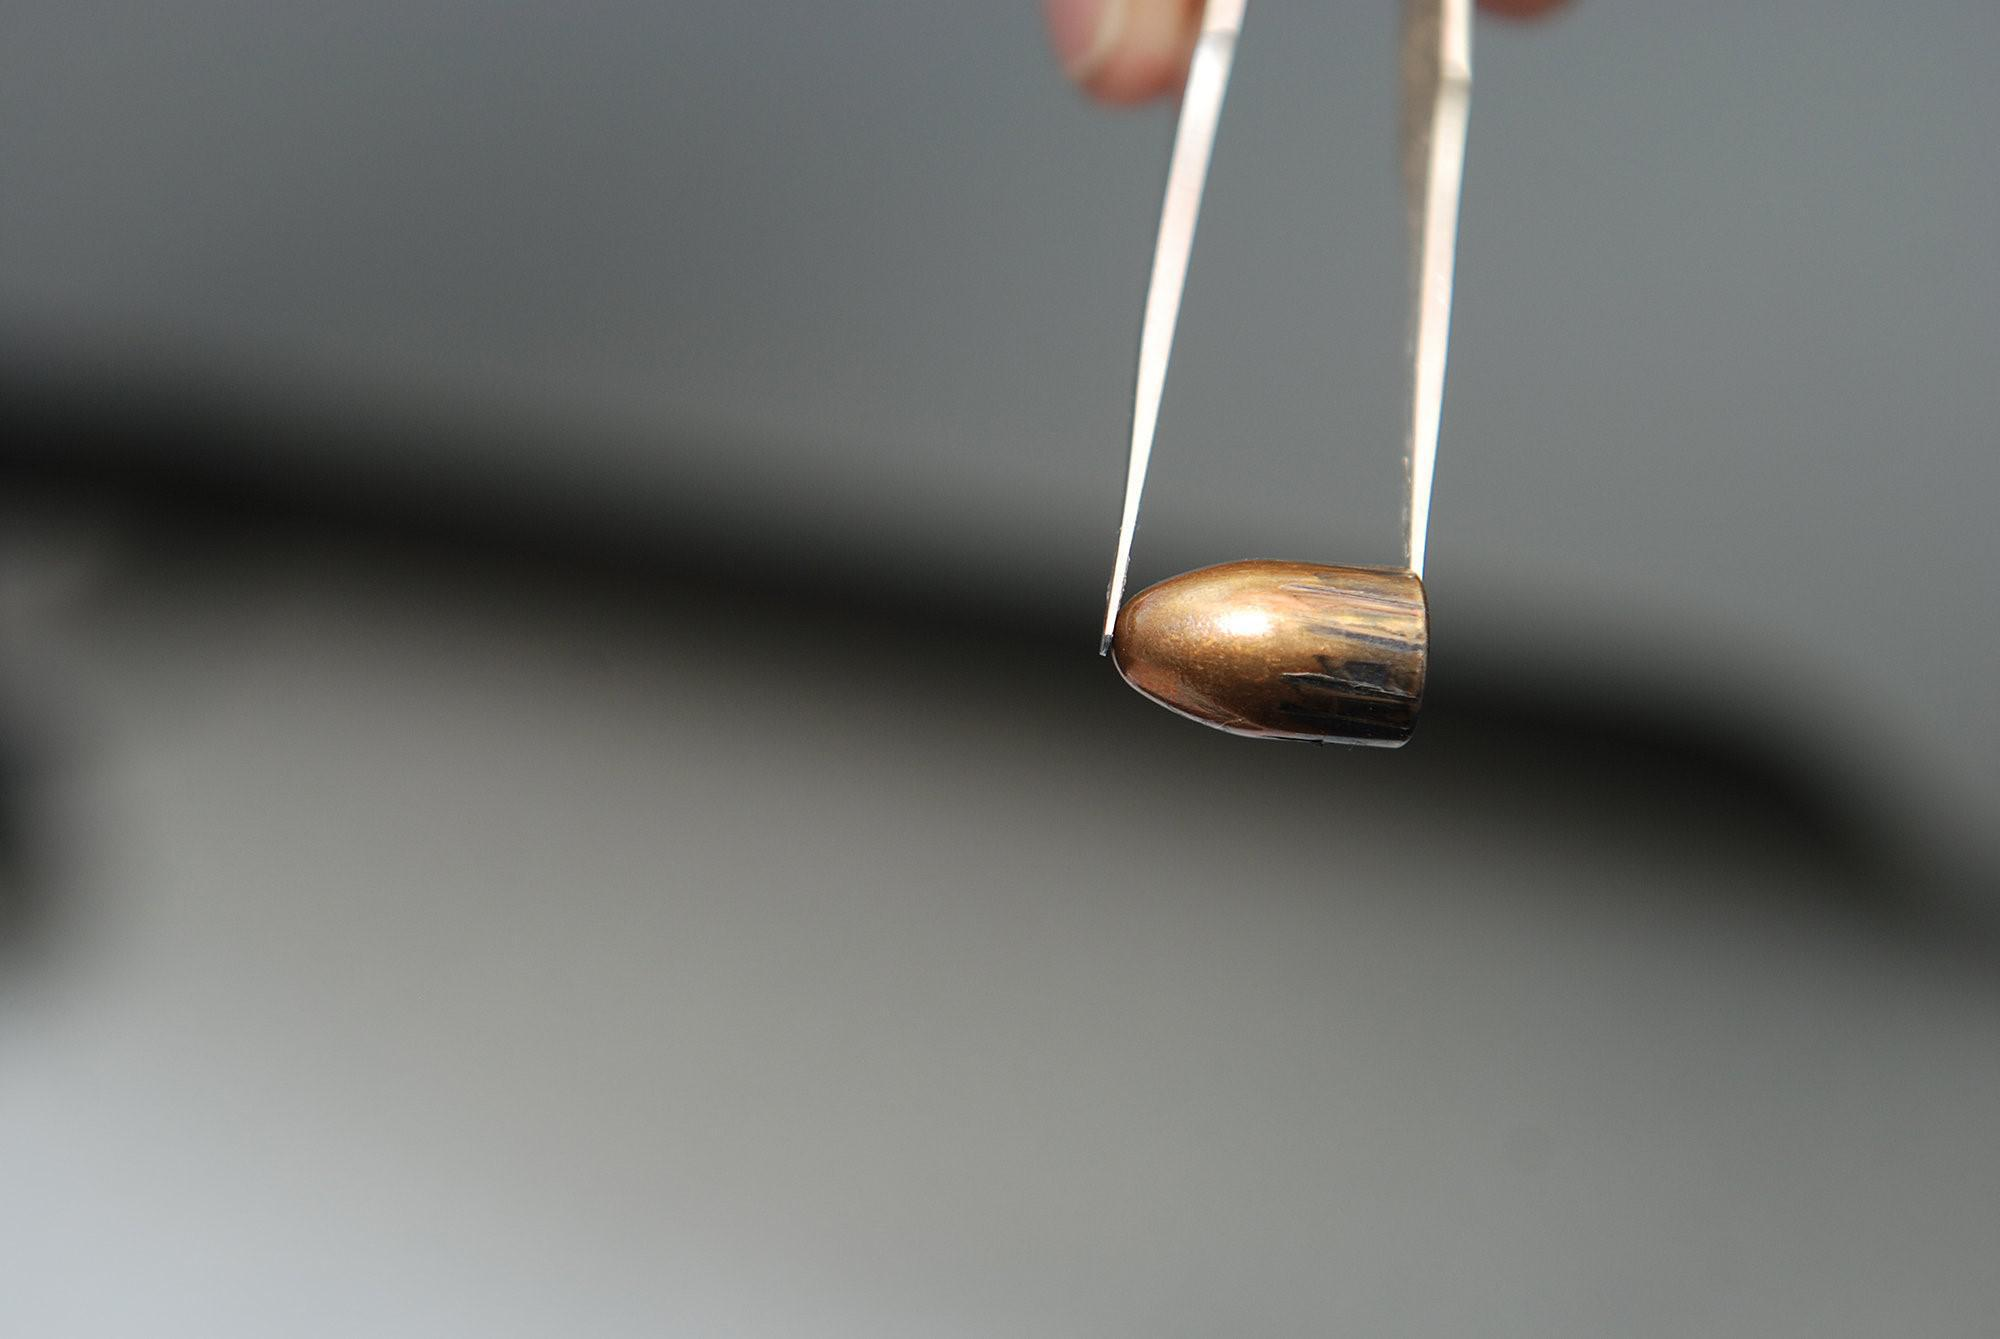Bullet: (1101, 560, 1443, 755)
